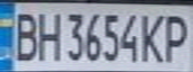3: (60, 8, 84, 62)
4: (118, 9, 142, 63)
5: (100, 9, 124, 62)
6: (81, 9, 106, 62)
B: (6, 8, 42, 62)
H: (33, 7, 63, 62)
K: (139, 10, 169, 63)
P: (160, 10, 193, 63)
